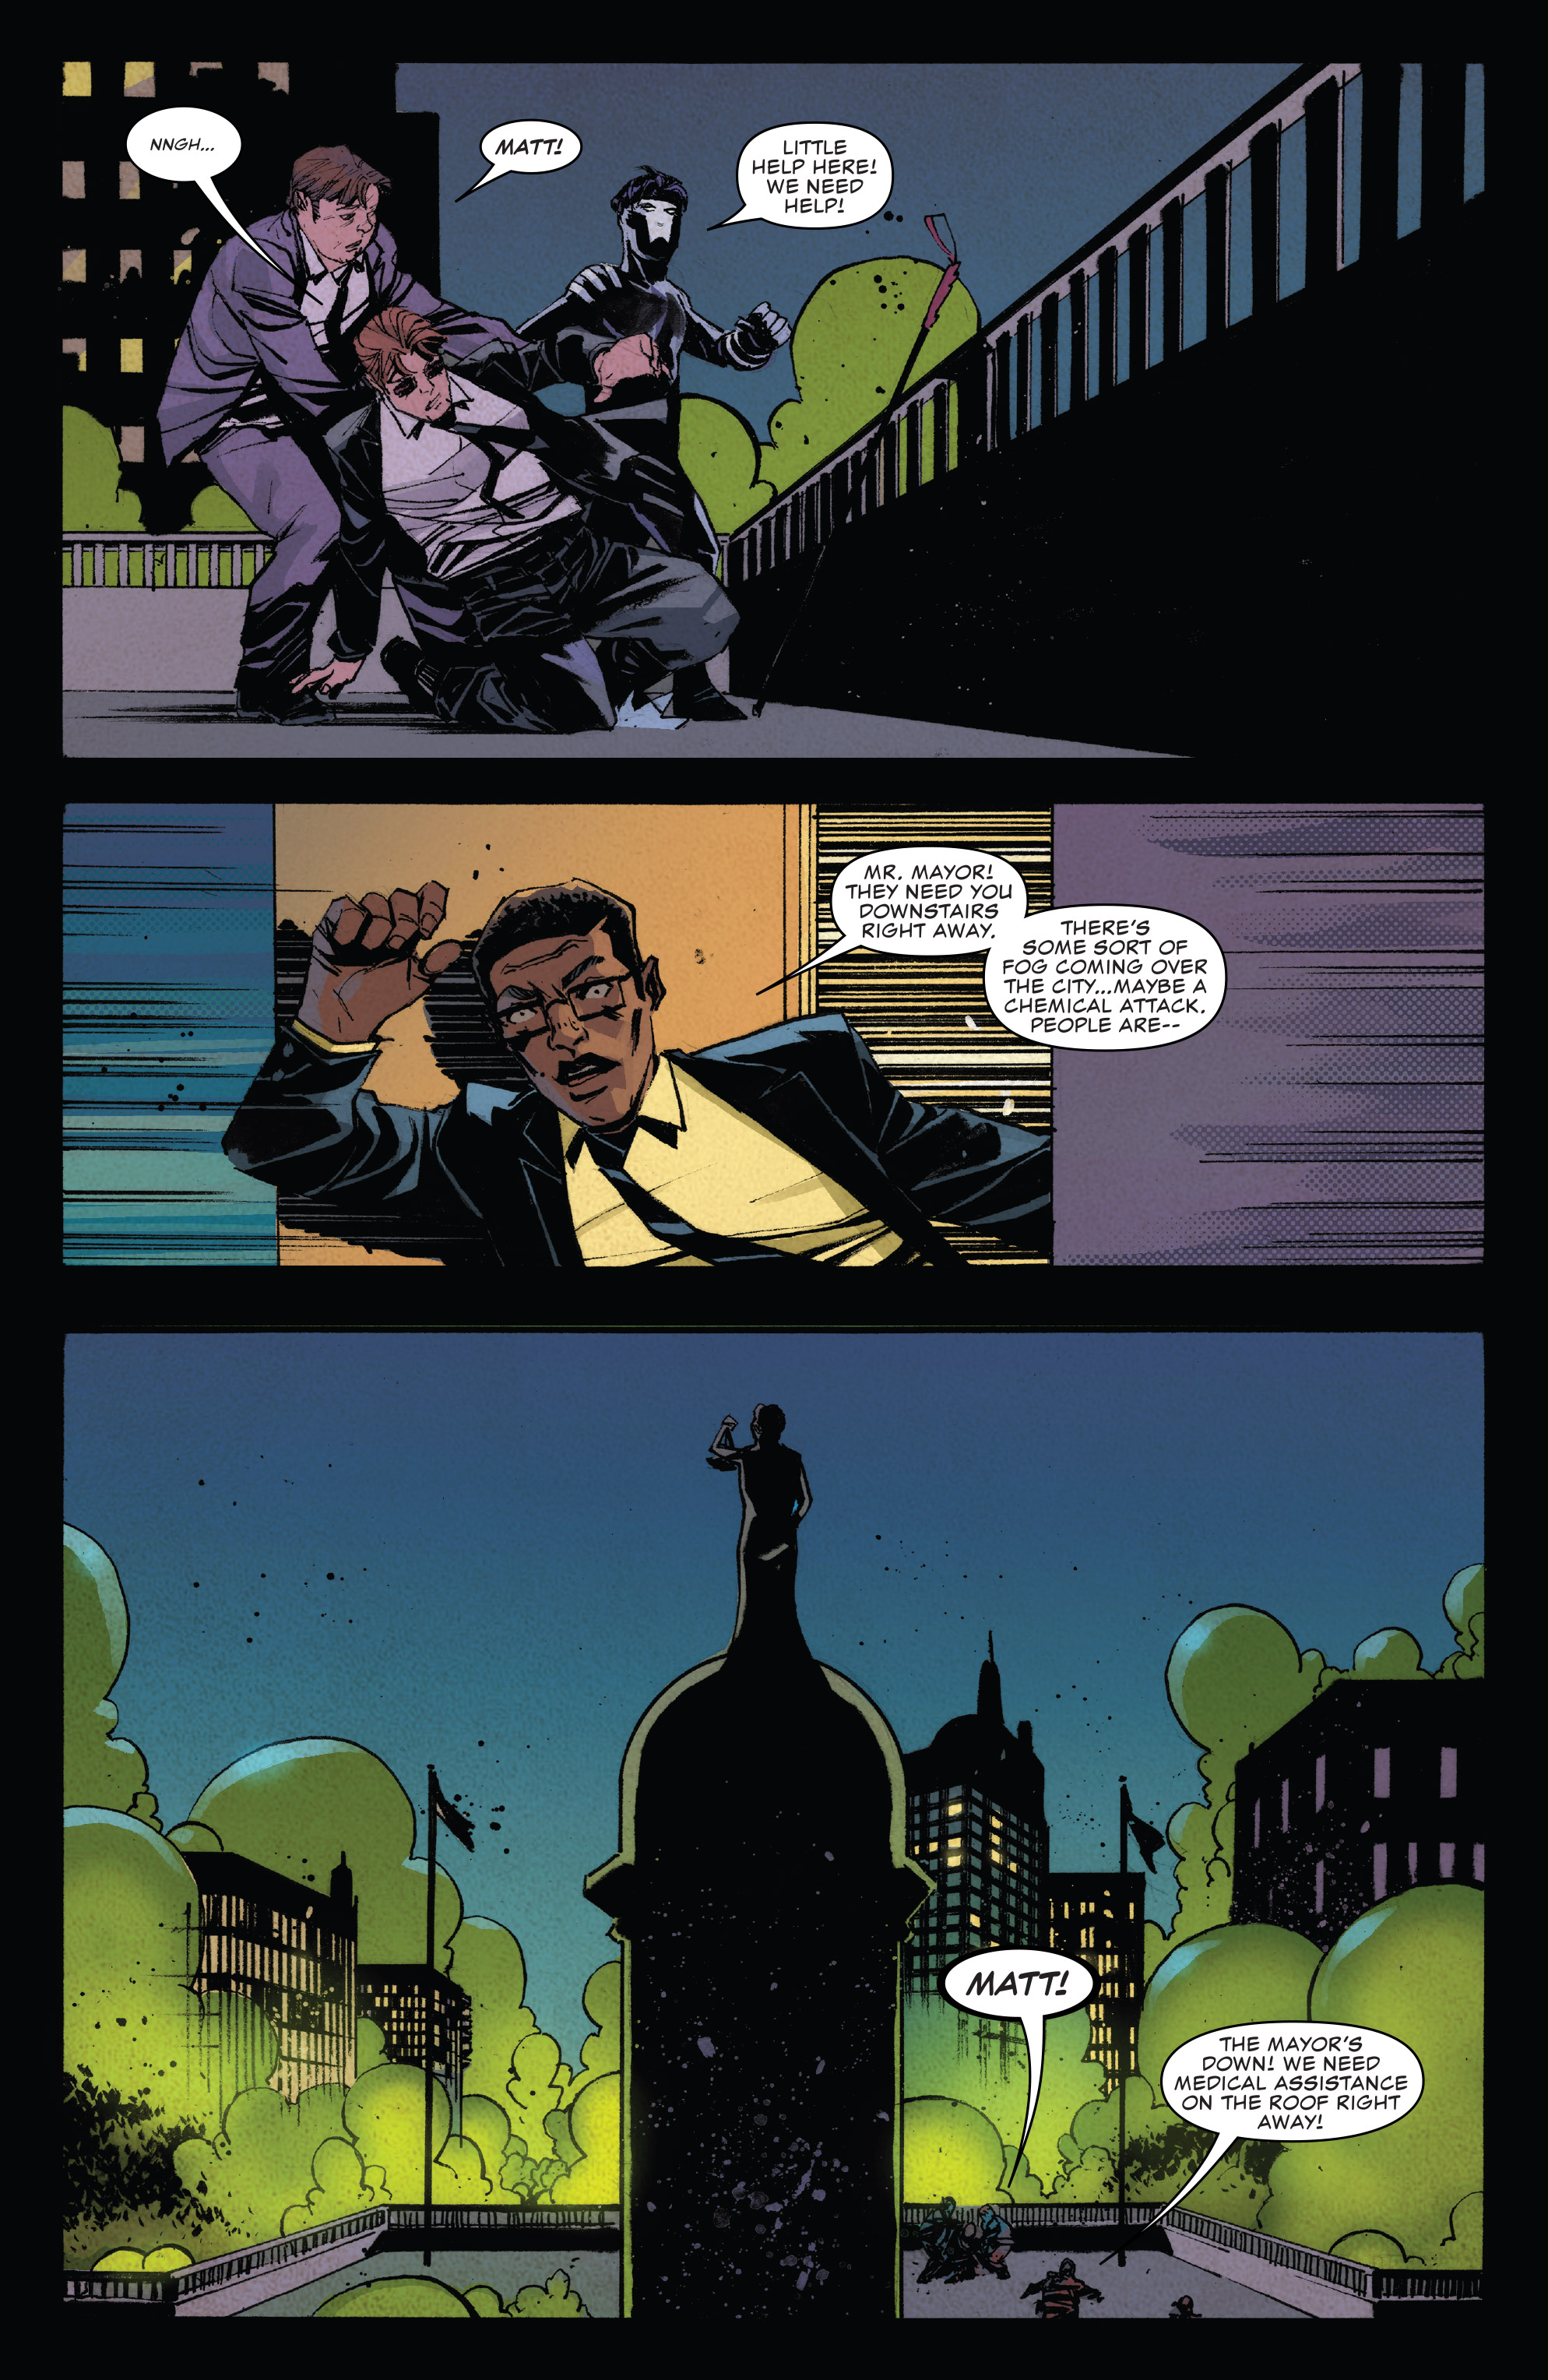Baloon: (1154, 2024, 1432, 2224), (946, 1946, 1113, 2181), (990, 900, 1224, 1048), (775, 845, 1024, 952), (127, 109, 283, 269), (709, 121, 894, 232), (456, 118, 582, 199)
Vignetta: (64, 1334, 1487, 2312), (55, 40, 1543, 763), (61, 800, 1484, 1272)
